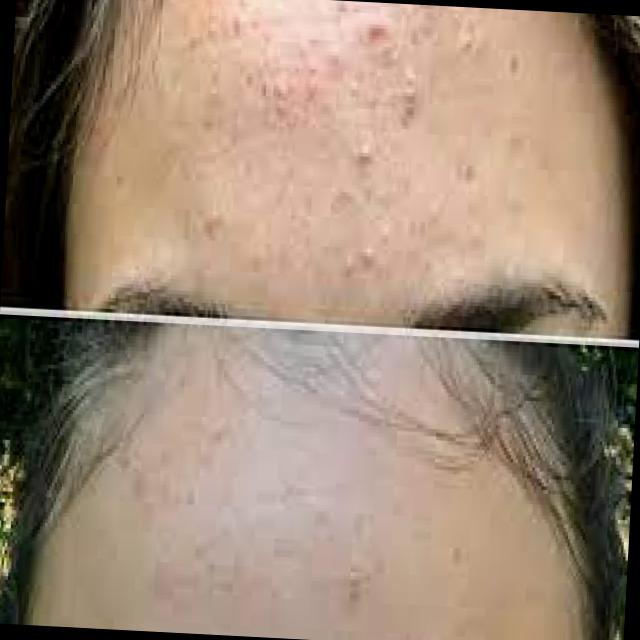fungal: (134, 0, 536, 286)
